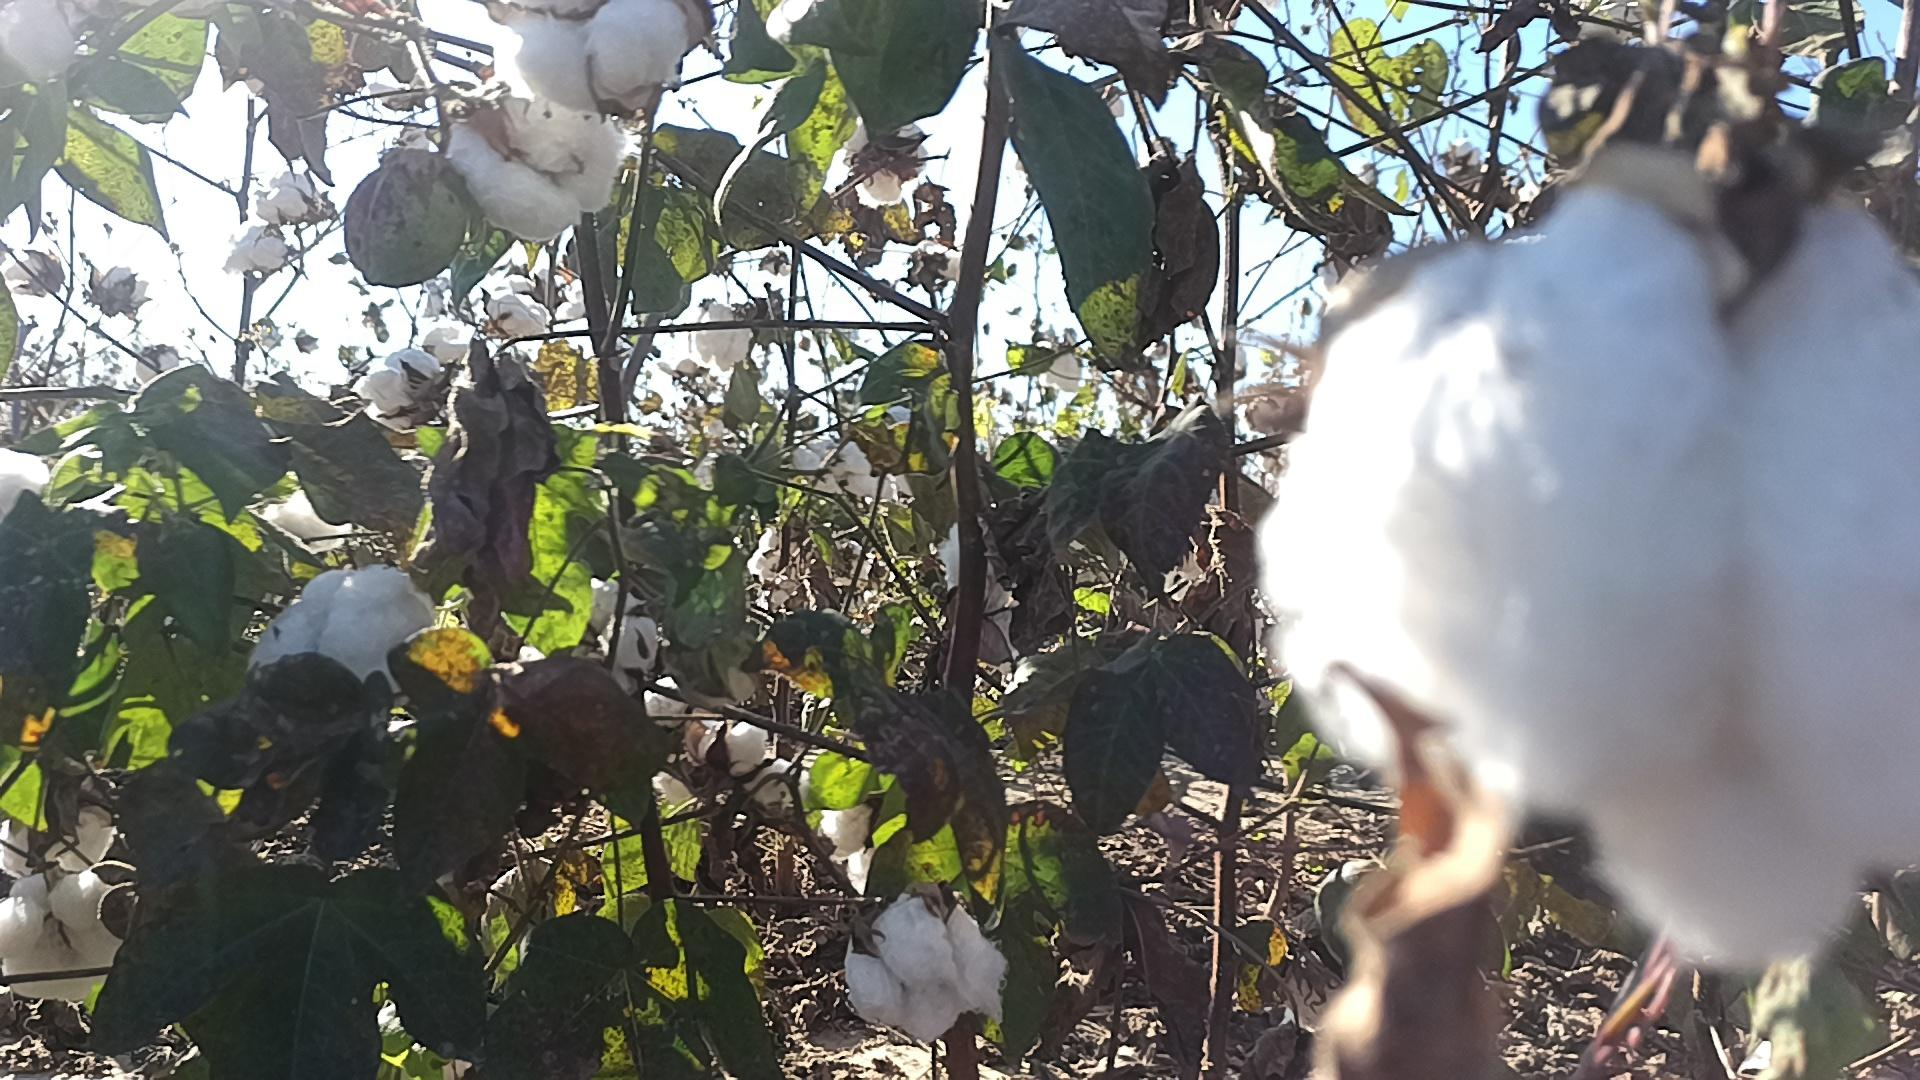cotton_ready: (1258, 165, 1920, 979), (241, 563, 440, 709), (434, 87, 620, 243), (842, 893, 1018, 1046), (512, 0, 693, 122), (2, 871, 127, 1003)
